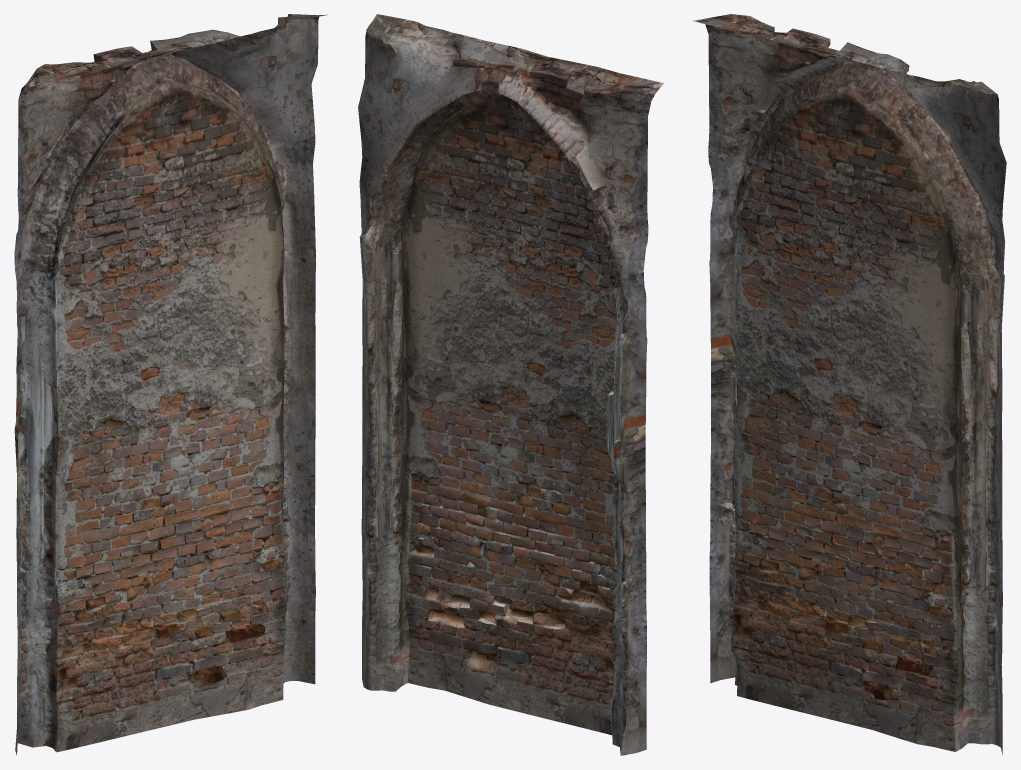
File: SM_ChapelWall_01_13_OneSide.fbx
3 views of the same model, side by side, from view 1: azimuth 30°, elevation 25°; view 2: azimuth 150°, elevation 25°; view 3: azimuth 330°, elevation 25° (orthographic). The views are drawn at different scales.
Parts seen in each view (by area): view 1: sm_ChapelWall_01_13_OneSide_LOD0; view 2: sm_ChapelWall_01_13_OneSide_LOD0; view 3: sm_ChapelWall_01_13_OneSide_LOD0.
Boxes of the visible parts, x1,y1,x2,y2 form: sm_ChapelWall_01_13_OneSide_LOD0: [14, 14, 328, 755]; sm_ChapelWall_01_13_OneSide_LOD0: [358, 14, 663, 755]; sm_ChapelWall_01_13_OneSide_LOD0: [693, 14, 1006, 754].
Bounding box in the file's own units: 44.82 × 250 × 546.
